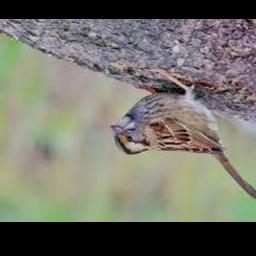Sparrow: (112, 68, 256, 201)
